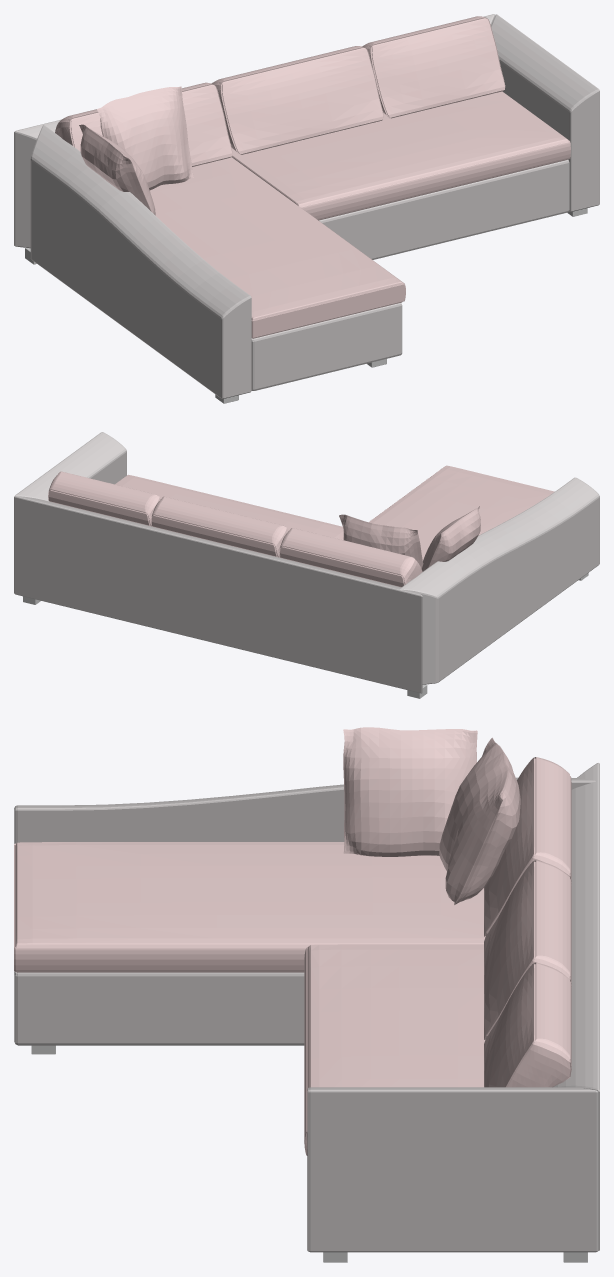
Rendered from sofa.dae.
The picture shows the model from 3 angles, top to bottom: view 1: azimuth 30°, elevation 25°; view 2: azimuth 150°, elevation 25°; view 3: azimuth 270°, elevation 25°; orthographic projection. The views are drawn at different scales.
Parts seen in each view (by area): view 1: Object08, Object09, Object14, Object15, Object1, Object16, Object03, Object06, Plane05, Object13, Plane04, Object07; view 2: Object07, Object08, Object14, Object13, Object15, Object16, Object09, Object03, Plane05, Plane04; view 3: Object14, Object03, Object09, Object06, Object08, Plane04, Object07, Object15, Object16, Plane05, Object13, Leg.
Part boxes in pixels (x1,y1,x2,y2): Object08: (30,125,251,398); Object09: (231,91,570,220); Object14: (150,157,405,338); Object15: (212,46,383,154); Object1: (319,159,569,259); Object16: (362,16,505,118); Object03: (491,14,599,211); Object06: (251,303,402,390); Plane05: (97,86,193,190); Object13: (55,82,232,166); Plane04: (79,124,155,215); Object07: (14,14,495,248); Object07: (14,496,422,693); Object08: (399,477,599,684); Object14: (369,465,554,560); Object13: (279,528,422,587); Object15: (151,496,288,557); Object16: (48,471,161,526); Object09: (115,474,343,539); Object03: (14,432,126,592); Plane05: (339,514,423,568); Plane04: (421,506,480,571); Object14: (14,842,485,972); Object03: (307,1087,598,1252); Object09: (304,944,485,1155); Object06: (14,972,304,1045); Object08: (14,777,595,843); Plane04: (343,727,477,856); Object07: (553,763,599,1250); Object15: (484,860,571,1039); Object16: (484,962,571,1087); Plane05: (439,737,520,904); Object13: (484,757,571,936); Leg: (31,1045,587,1262).
Size of the model in its own units: 9.6 by 7.21 by 3.16.
